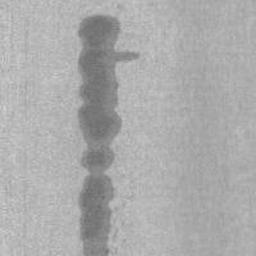Water spot: (76, 13, 142, 256)
